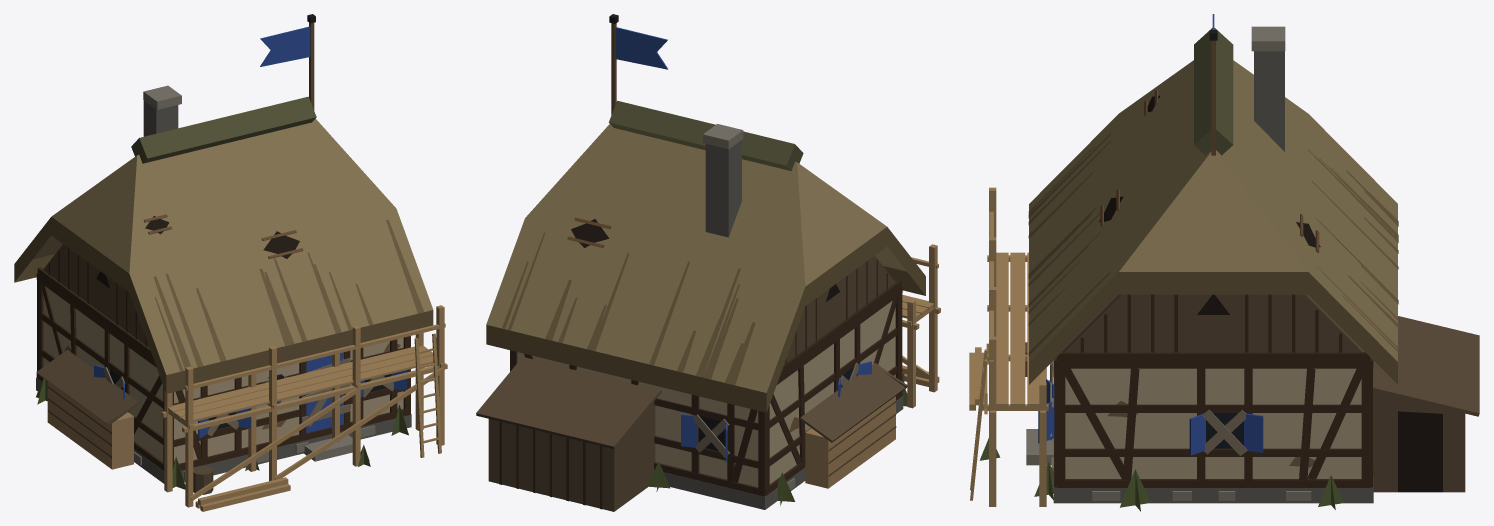
Rendered from fachwerkhaus.glb.
3 views of the same model, side by side, from view 1: azimuth 30°, elevation 25°; view 2: azimuth 150°, elevation 25°; view 3: azimuth 270°, elevation 25° (orthographic). The views are drawn at different scales.
Visible parts, largest first — view 1: Haus, Geruest, Leerstand, Fahne; view 2: Haus, Geruest, Leerstand, Fahne; view 3: Haus, Geruest, Leerstand, Fahne.
Boxes of the visible parts, bbox=[...] form: Haus: bbox=[14, 85, 433, 494]; Geruest: bbox=[161, 305, 447, 511]; Leerstand: bbox=[36, 214, 408, 489]; Fahne: bbox=[260, 14, 315, 110]; Haus: bbox=[476, 100, 925, 511]; Geruest: bbox=[902, 244, 940, 408]; Leerstand: bbox=[567, 217, 907, 506]; Fahne: bbox=[609, 14, 667, 114]; Haus: bbox=[1025, 26, 1479, 503]; Geruest: bbox=[969, 187, 1048, 506]; Leerstand: bbox=[979, 89, 1343, 511]; Fahne: bbox=[1209, 14, 1217, 155].
Bounding box in the file's own units: 7.31 × 8.9 × 9.13.
